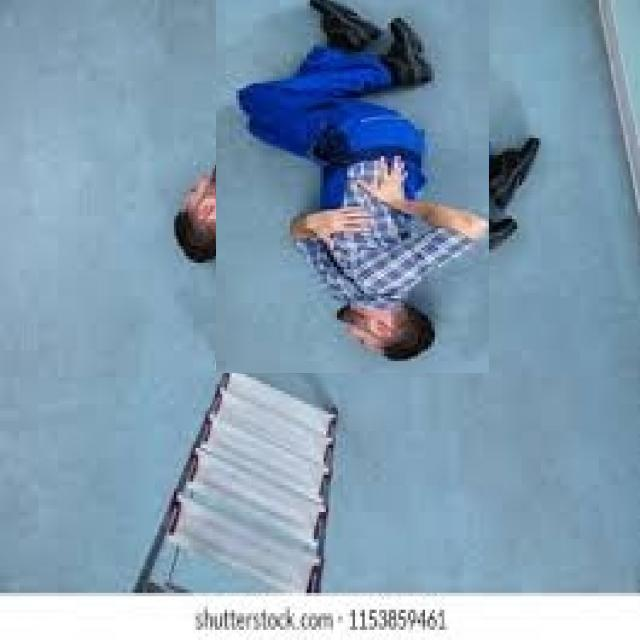Fall: (230, 18, 493, 376)
